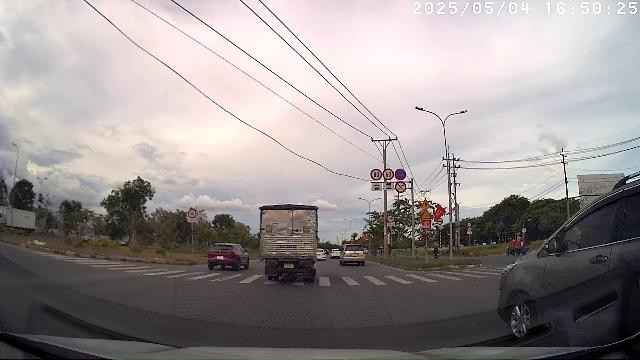127-toc-do-toi-da-50: (387, 214, 395, 223)
127-toc-do-toi-da-60: (383, 168, 394, 180)
127-toc-do-toi-da-80: (370, 168, 382, 180)
130-cam-dung-va-do-xe: (395, 168, 407, 180)
